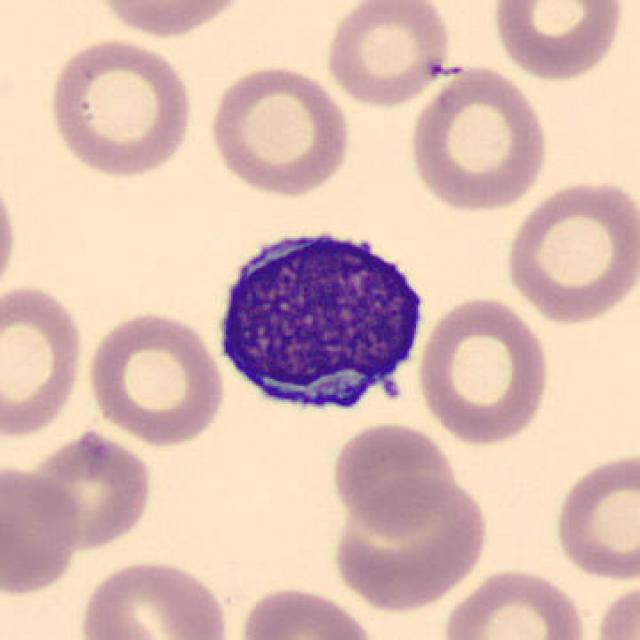Lymphocyte: (207, 213, 438, 427)
RBC: (327, 474, 493, 612), (405, 62, 553, 213), (42, 35, 196, 180), (412, 292, 554, 448), (500, 174, 638, 328), (204, 62, 354, 199), (84, 307, 228, 448), (16, 428, 156, 552), (329, 420, 459, 536), (321, 0, 455, 109), (0, 278, 87, 442), (75, 555, 233, 640), (550, 448, 638, 584), (0, 460, 85, 597), (439, 564, 590, 640), (489, 0, 627, 83), (234, 582, 378, 640), (87, 0, 251, 41), (0, 160, 21, 306), (590, 578, 638, 640)
